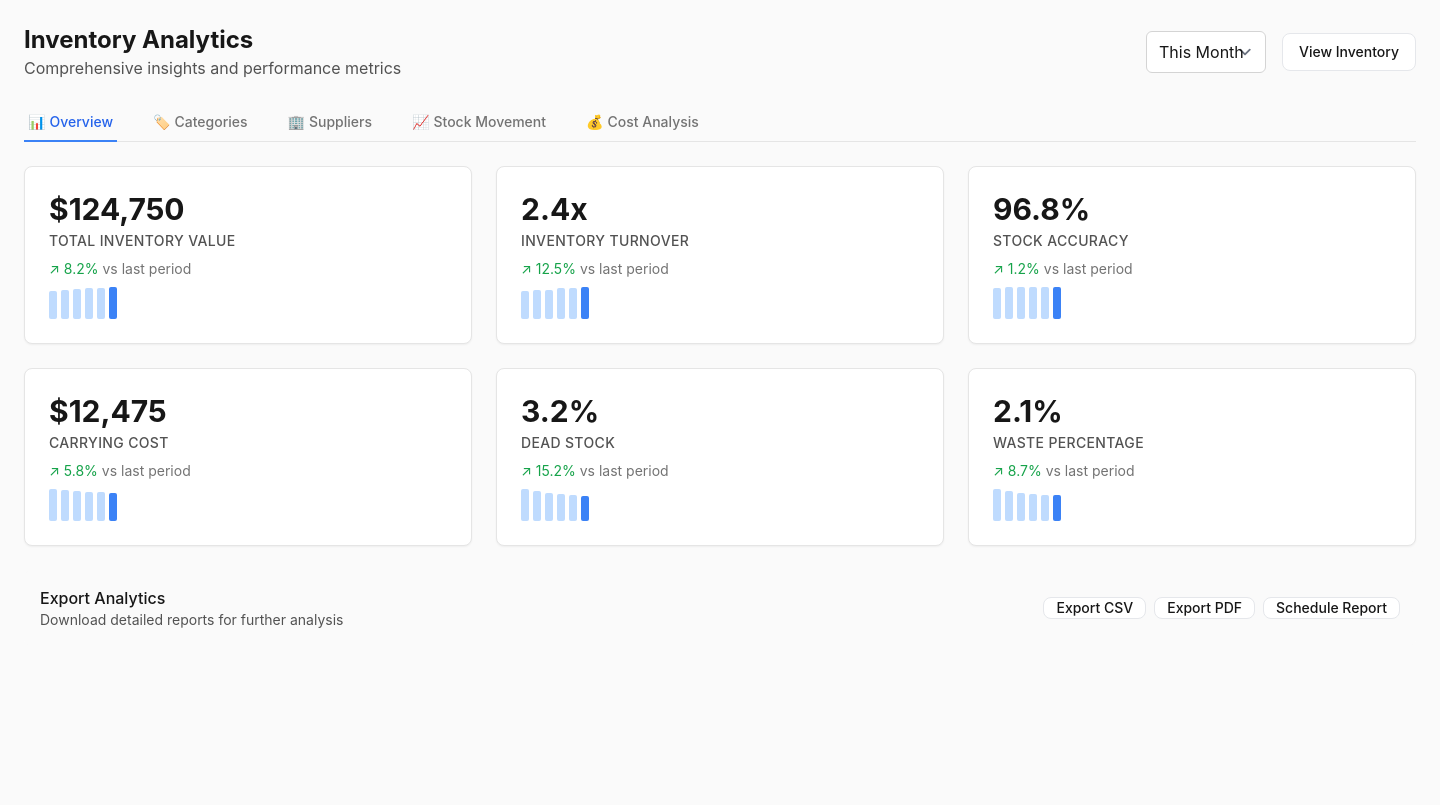
Test: Inventory Analytics Tests › Categories Tab › should switch to categories view
Click the button "🏷️Categories" at (200, 123), box [149,104,252,142]
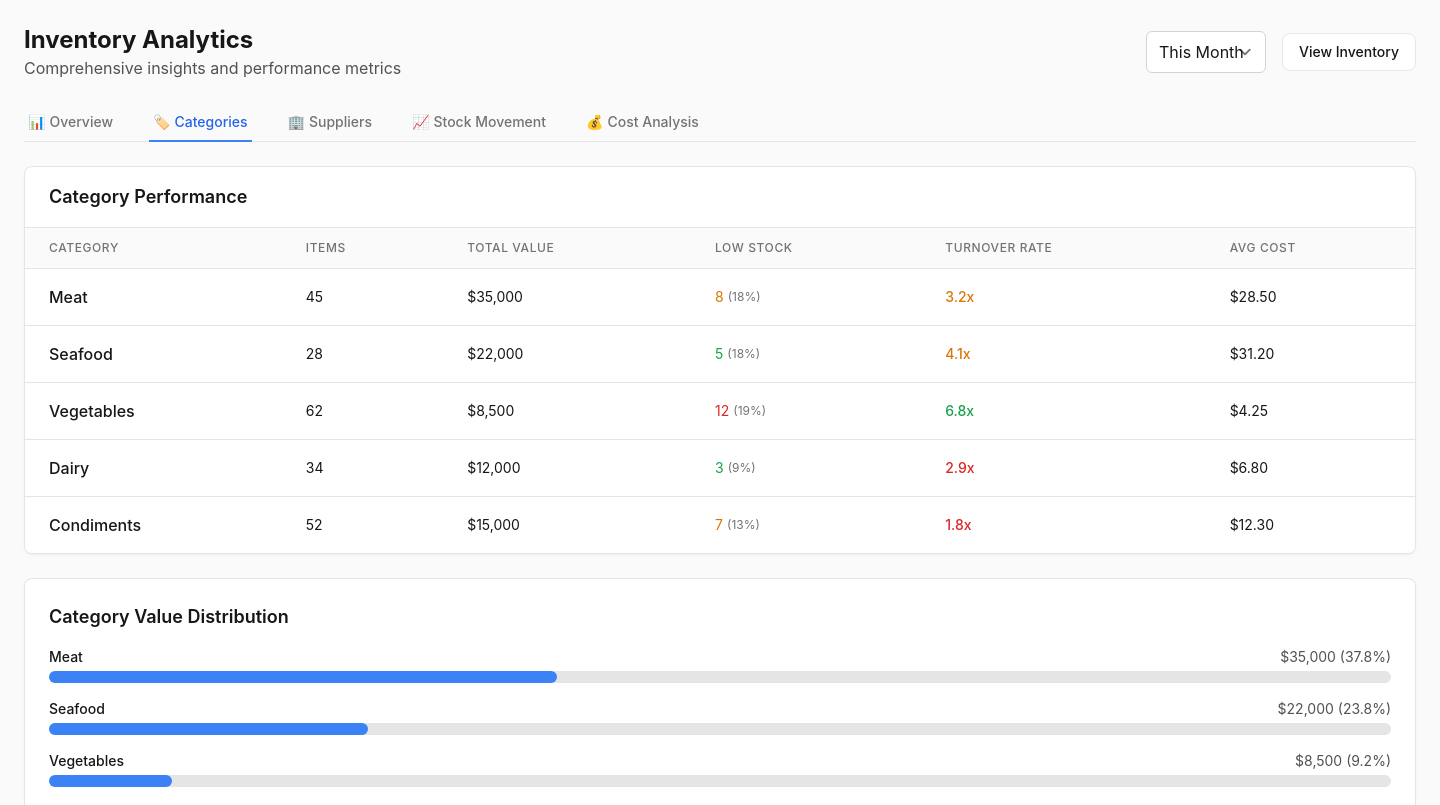
Now the heading "Category Performance" is shown, box [49,186,247,207]
